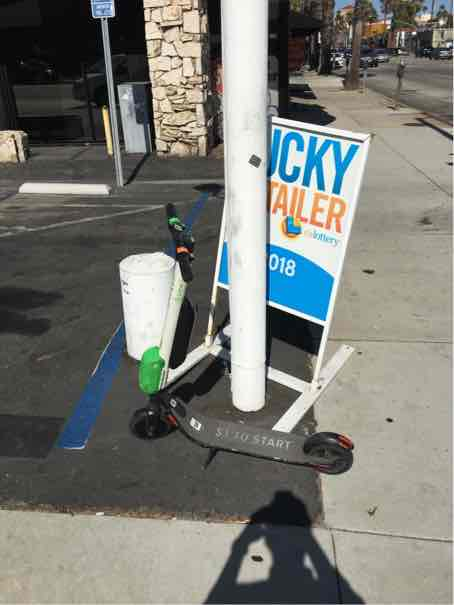scooter: (118, 201, 353, 467)
